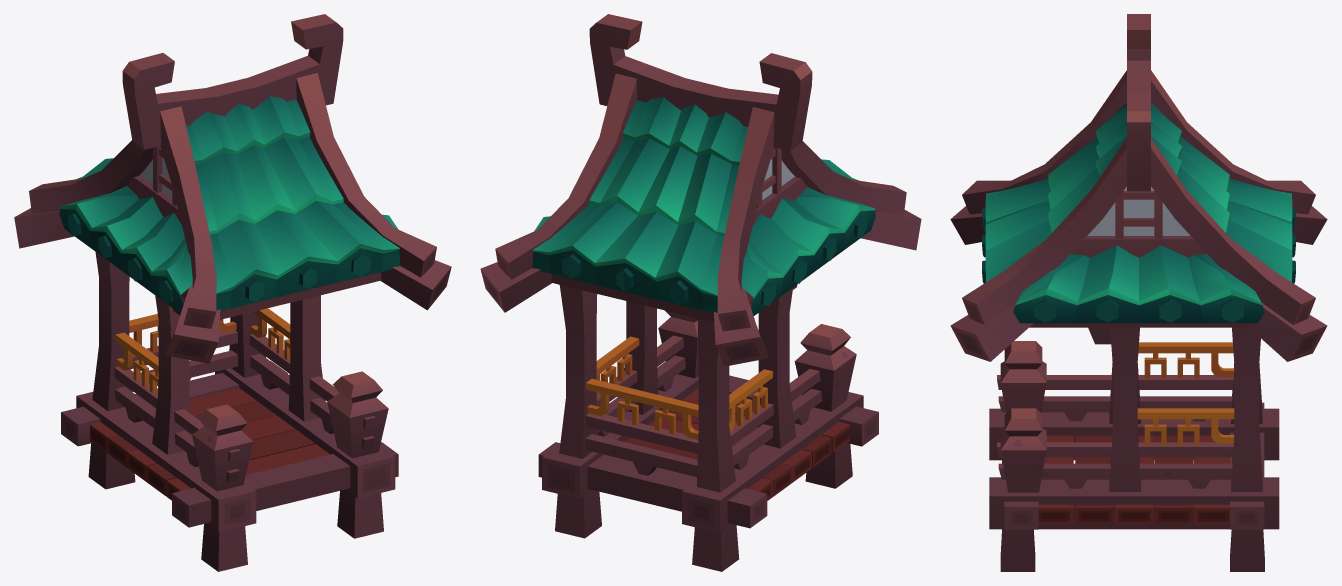
File: shrine.glb
3 renders of one model, left to right at view 1: azimuth 30°, elevation 25°; view 2: azimuth 150°, elevation 25°; view 3: azimuth 270°, elevation 25°, orthographic.
Parts seen in each view (by area): view 1: shrine; view 2: shrine; view 3: shrine.
Boxes of the visible parts, bbox=[...] form: shrine: bbox=[14, 14, 451, 571]; shrine: bbox=[480, 14, 921, 571]; shrine: bbox=[950, 14, 1327, 571].
Size of the model in its own units: 1.76 by 2.75 by 2.
1 material, 1 textured.
